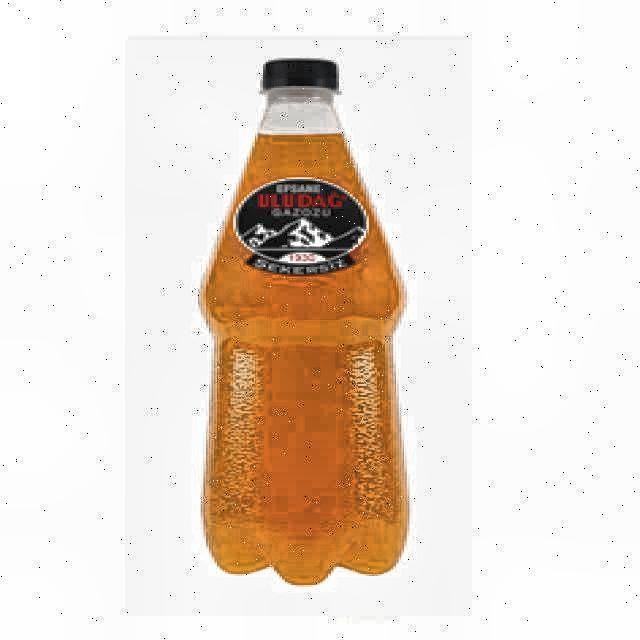plastic: (197, 54, 413, 589)
